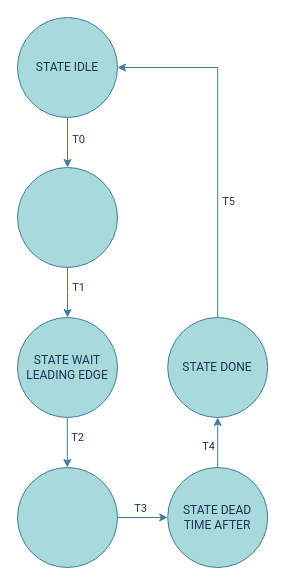
This 286x585 diagram has some shape labels left out. Each missing label, with the box of its shape:
STATE DEAD TIME BEFORE: (16, 166, 118, 268)
STATE SEND BITS: (16, 466, 118, 568)
